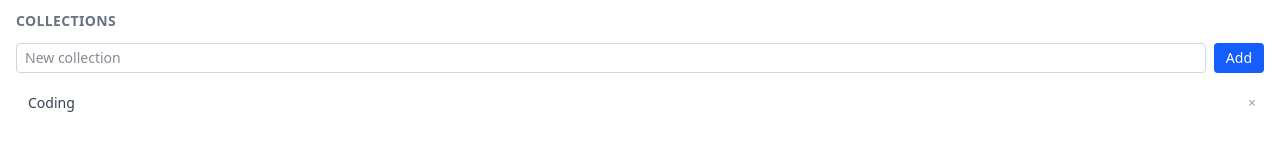
CollectionsSidebar › asks for confirmation and removes the row on delete
Expected: the list item "Coding" is shown, [16,85,1264,121]
Click the button named "delete coding": [1252, 103] box [1240,89,1264,117]
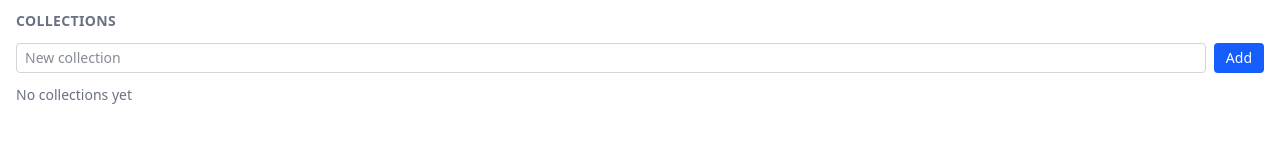
Now the button "Coding" is gone
